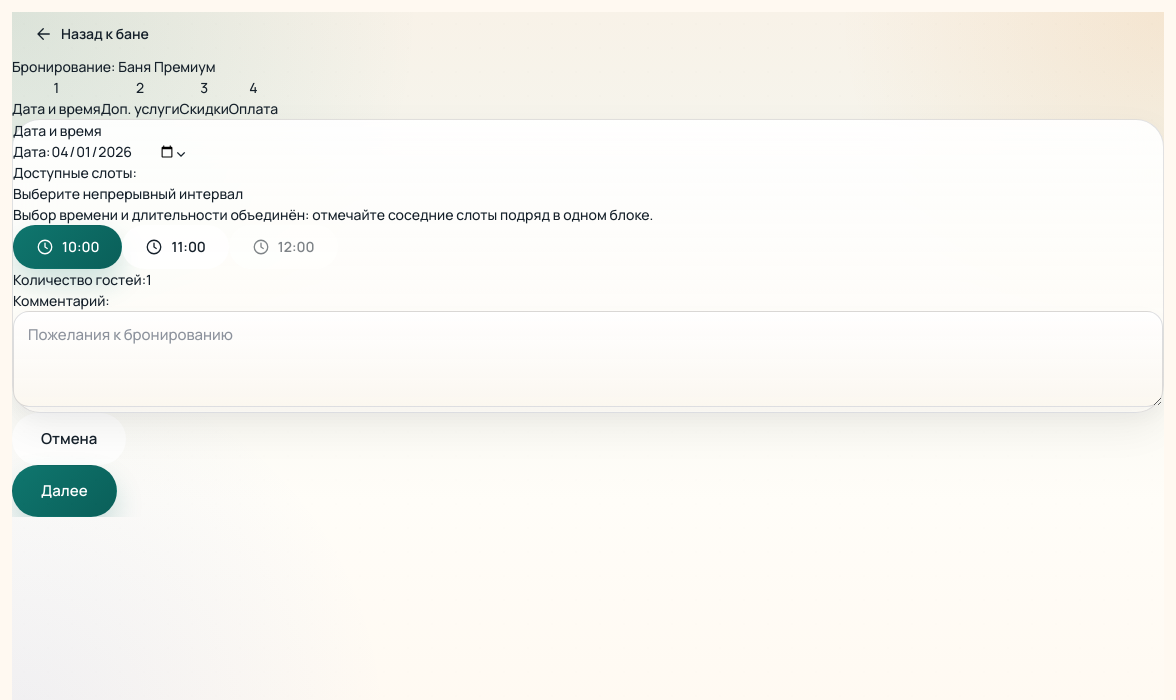
Test case: BookingCreate › Saved cards › shows card brand and expiry date
Click the button "Далее" at {"x": 64, "y": 491}, box [12,465,117,517]
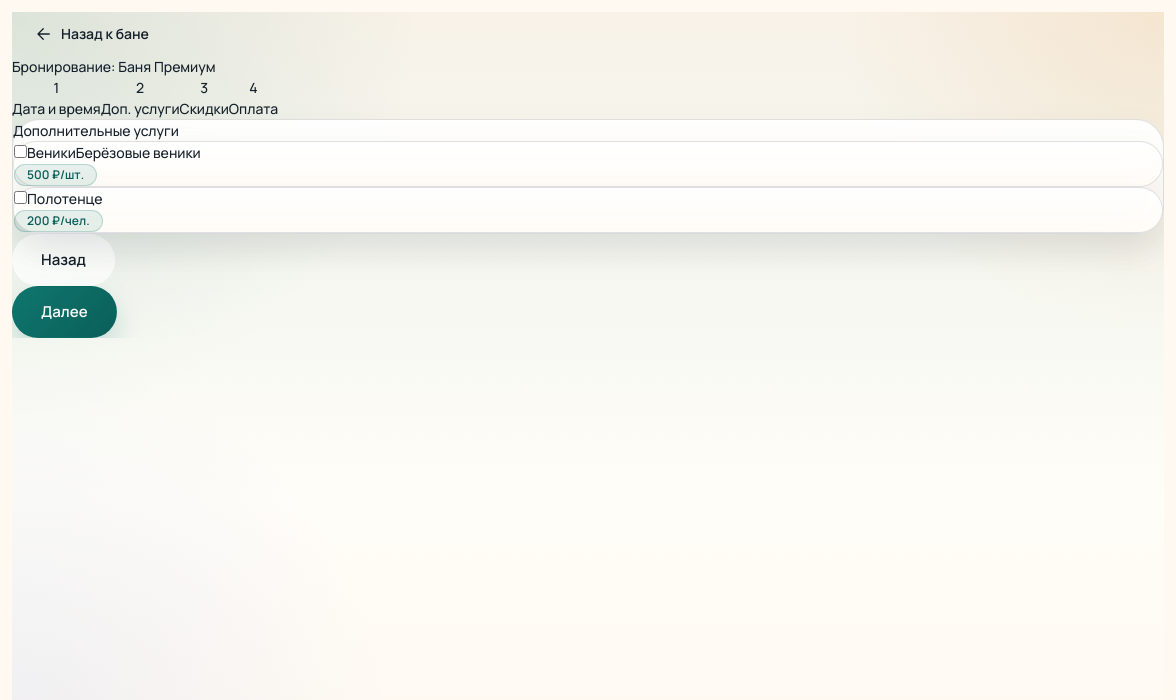
Click the button "Далее" at {"x": 64, "y": 312}, box [12,286,117,338]
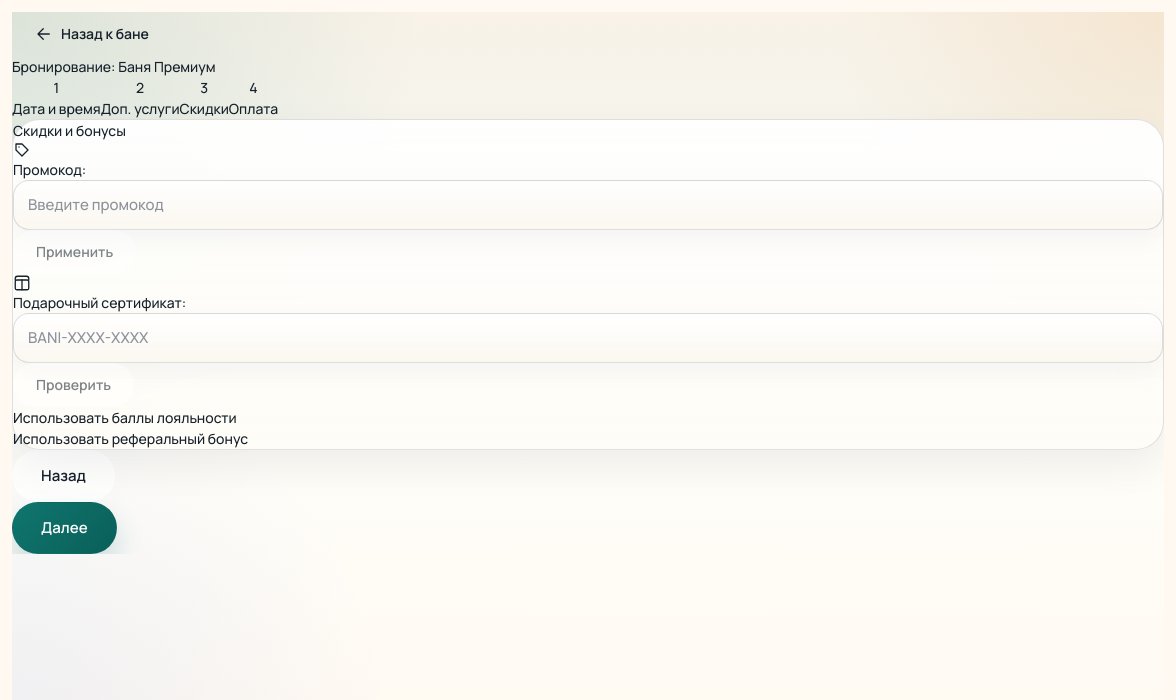
Click the button "Далее" at {"x": 64, "y": 528}, box [12,502,117,554]
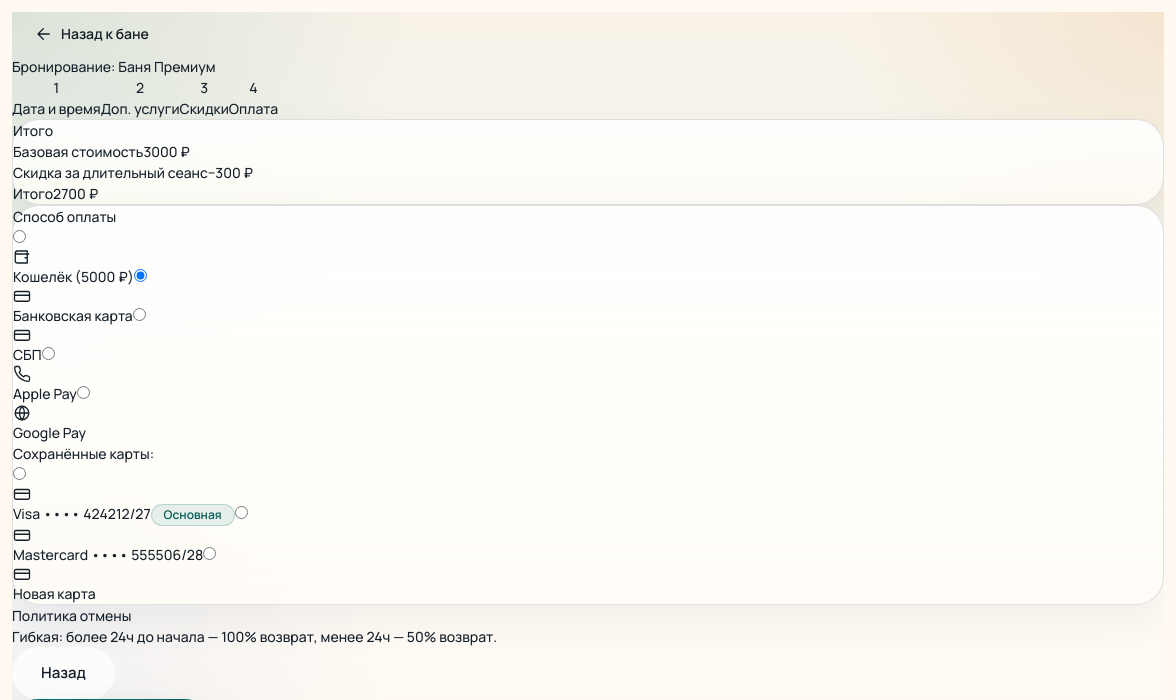
Check: the text "Visa •••• 424212/27 Основная" is shown, box [13,485,235,526]
Check: the text "12/27" is shown, box [116,504,151,523]
Check: the text "Mastercard •••• 555506/28" is shown, box [13,526,203,564]
